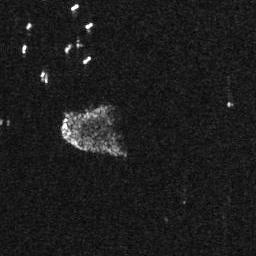ship: (82, 54, 92, 64), (69, 3, 79, 11), (25, 21, 33, 30), (85, 22, 93, 30), (64, 44, 71, 53), (22, 44, 27, 55)
